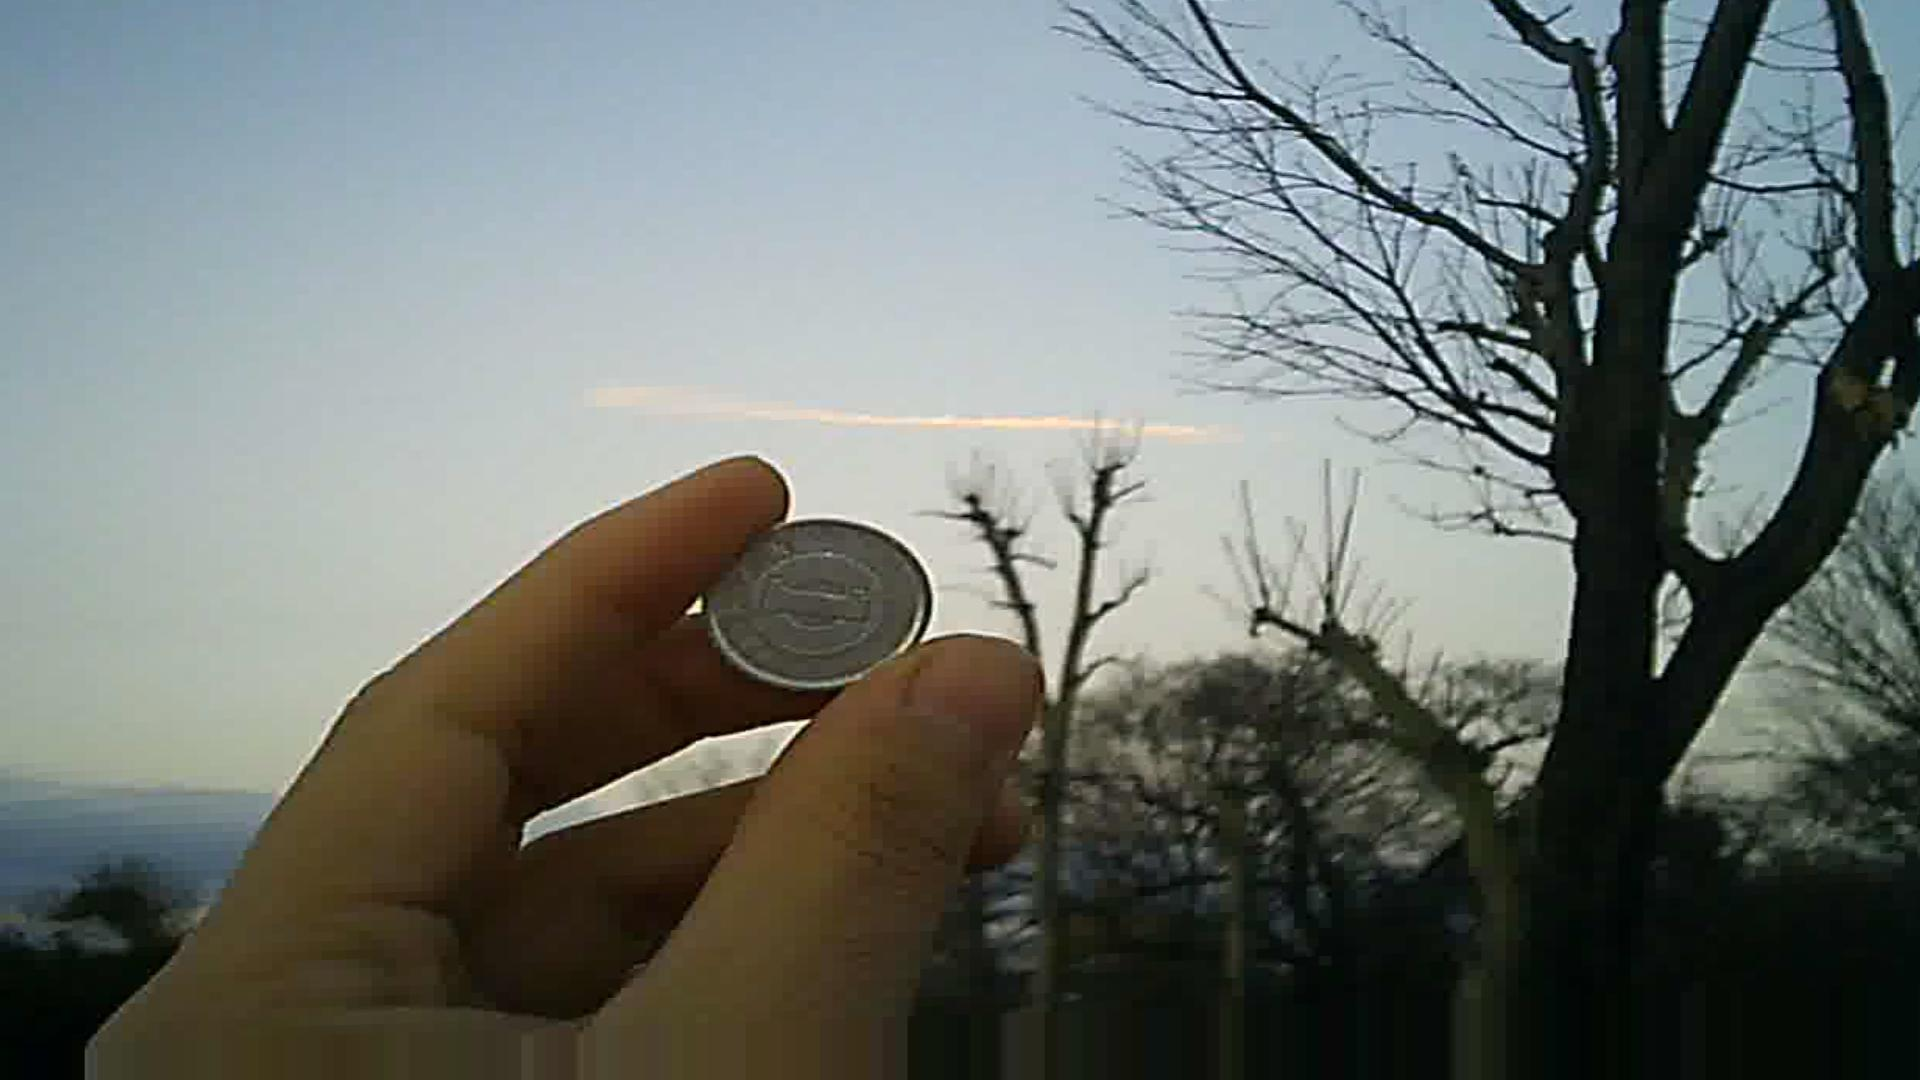1 Yen: (676, 493, 932, 703)
